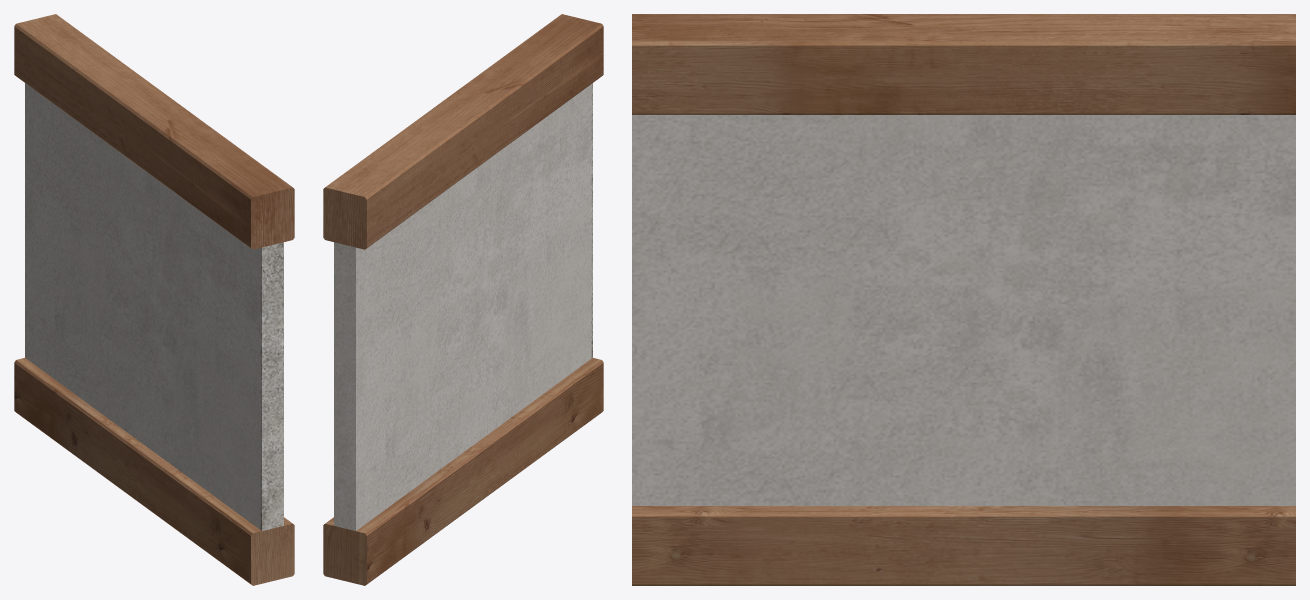
The model's file is SM_JSH_WallE.fbx.
3 renders of one model, left to right at view 1: azimuth 30°, elevation 25°; view 2: azimuth 150°, elevation 25°; view 3: azimuth 270°, elevation 25°, orthographic. The views are drawn at different scales.
Parts seen in each view (by area): view 1: SM_JSH_WallE; view 2: SM_JSH_WallE; view 3: SM_JSH_WallE.
Boxes of the visible parts, x1=… form: SM_JSH_WallE: x1=14, y1=14, x2=294, y2=585; SM_JSH_WallE: x1=323, y1=14, x2=603, y2=585; SM_JSH_WallE: x1=632, y1=14, x2=1295, y2=585.
Size of the model in its own units: 11.78 by 111 by 100.
Materials: 1 (1 with a texture image).
